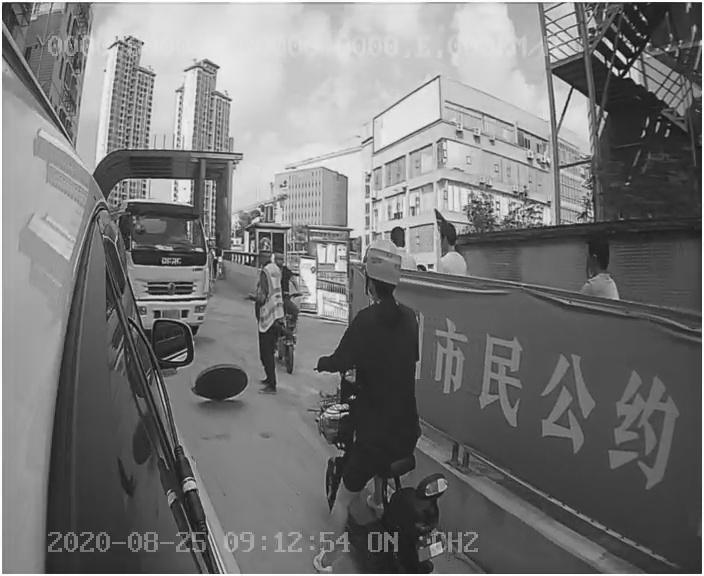person: (250, 238, 291, 395)
